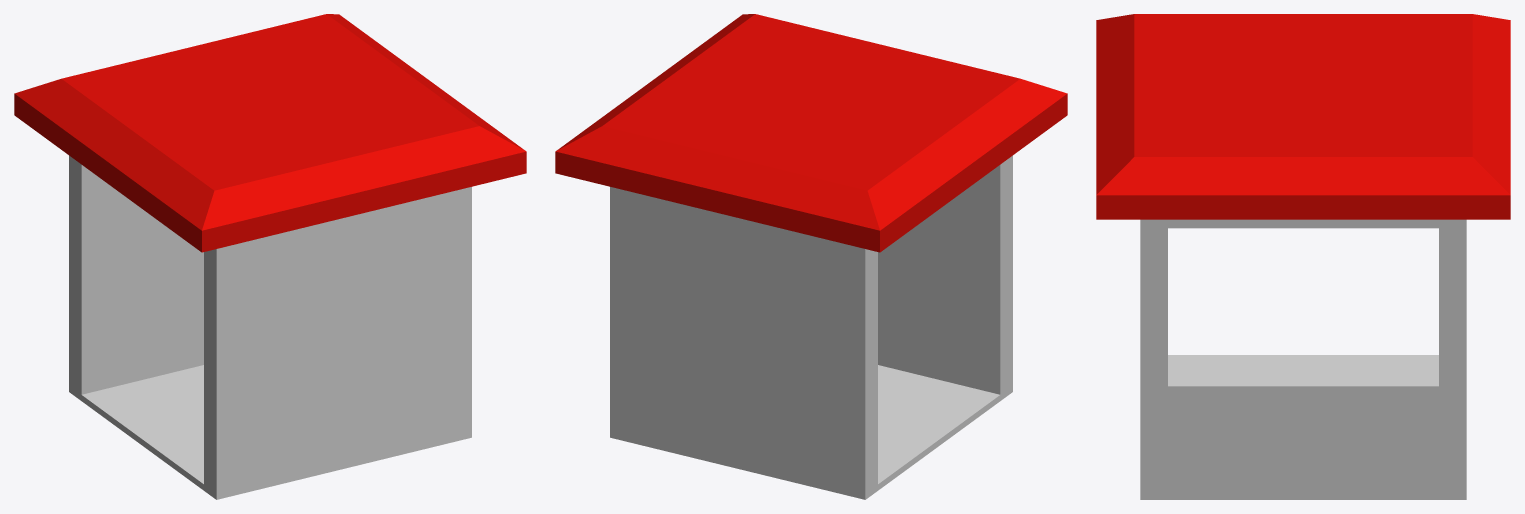
Rendered from store_red_GLB.glb.
The picture shows the model from 3 angles, left to right: view 1: azimuth 30°, elevation 25°; view 2: azimuth 150°, elevation 25°; view 3: azimuth 270°, elevation 25°; orthographic projection. The views are drawn at different scales.
Visible parts, largest first — view 1: Store; view 2: Store; view 3: Store.
Boxes of the visible parts, x1,y1,x2,y2 form: Store: (14,14,526,499); Store: (555,14,1067,499); Store: (1096,14,1510,499).
Size of the model in its own units: 2.54 by 2.34 by 2.54.
